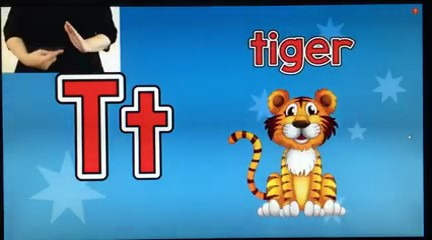T: (16, 14, 93, 71)
